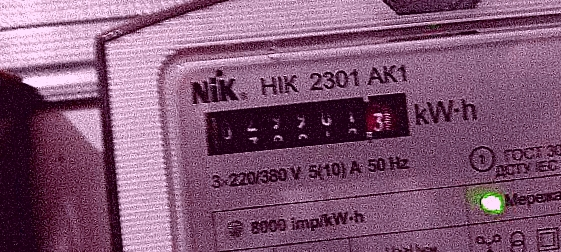0: (316, 102, 333, 128), (217, 118, 235, 141)
1: (341, 101, 357, 125)
2: (241, 113, 259, 133)
3: (369, 109, 384, 132)
9: (292, 106, 308, 130), (267, 109, 281, 132)
screen: (189, 81, 421, 166)
